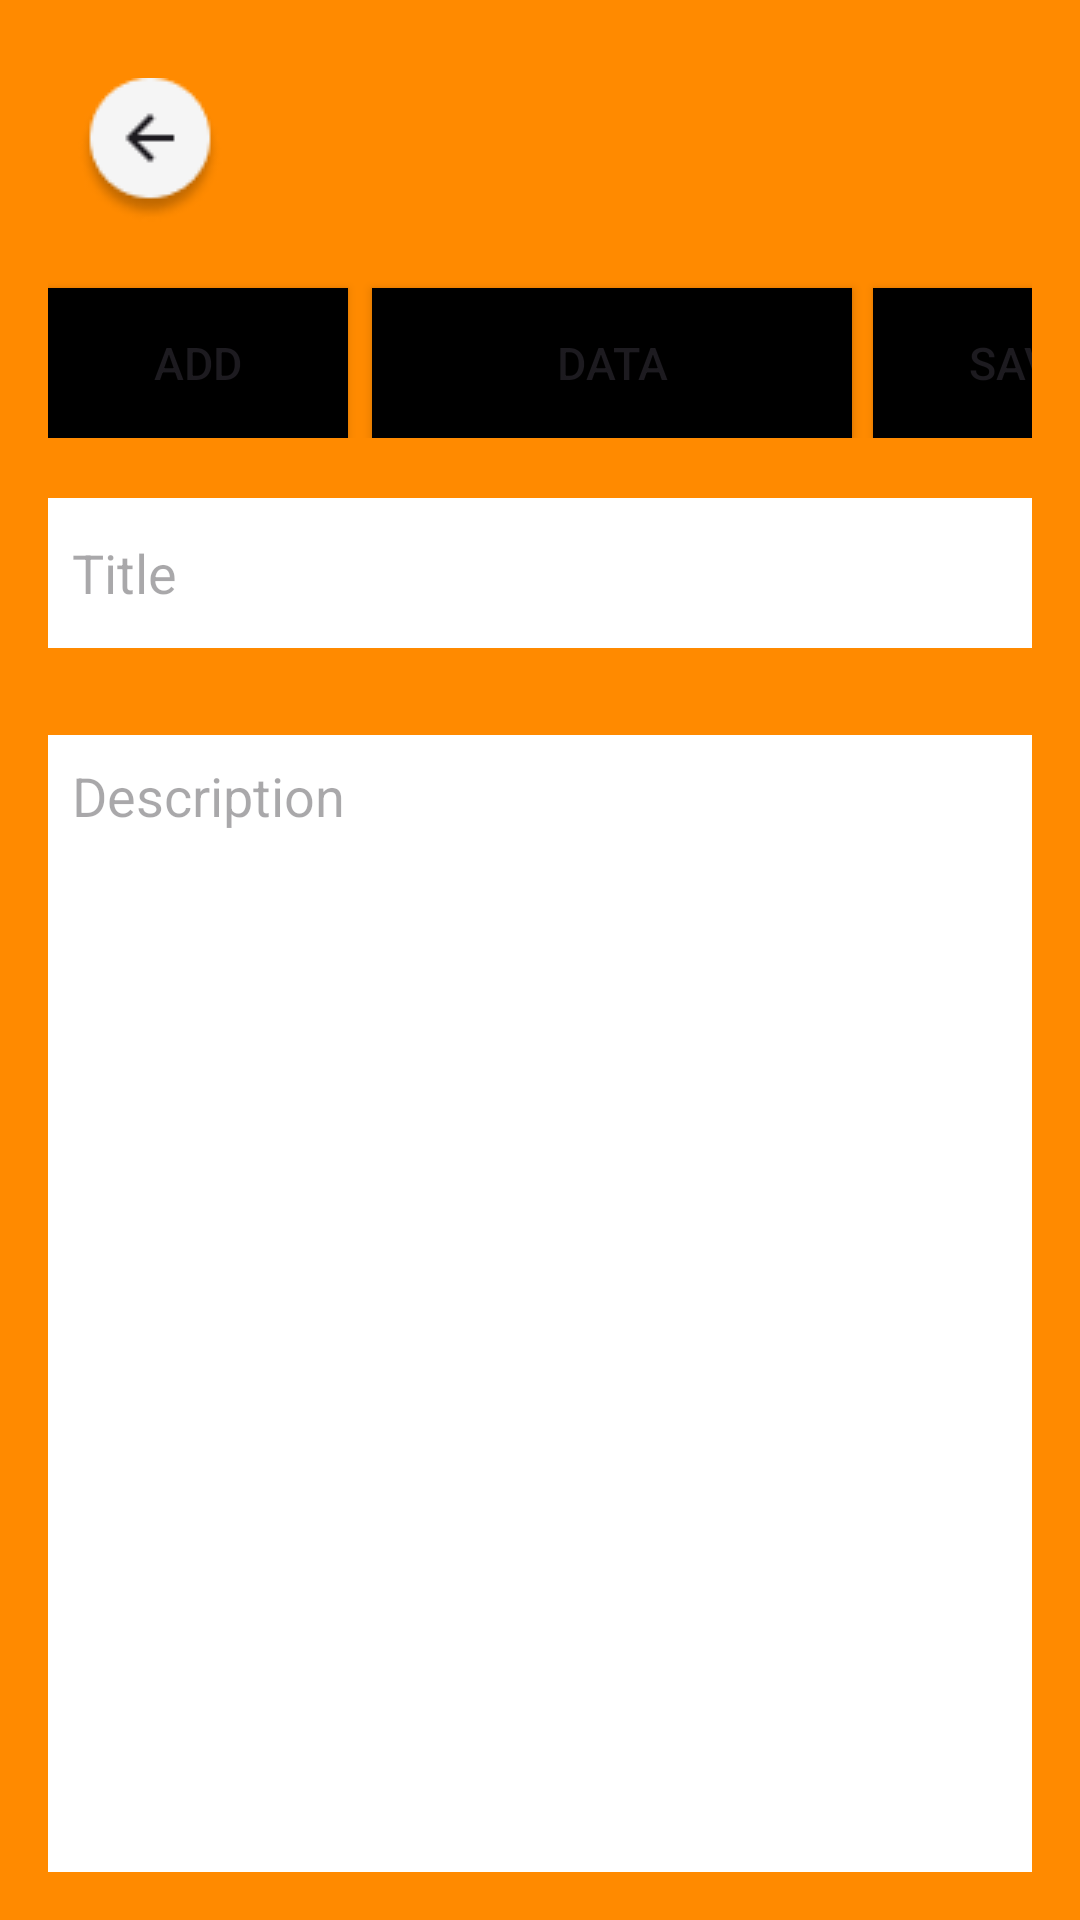

Locate icon controls on the screen. Image size 1080x1920, boxes as (x1, y1, x2, y2).
back: (89, 78, 211, 211)
